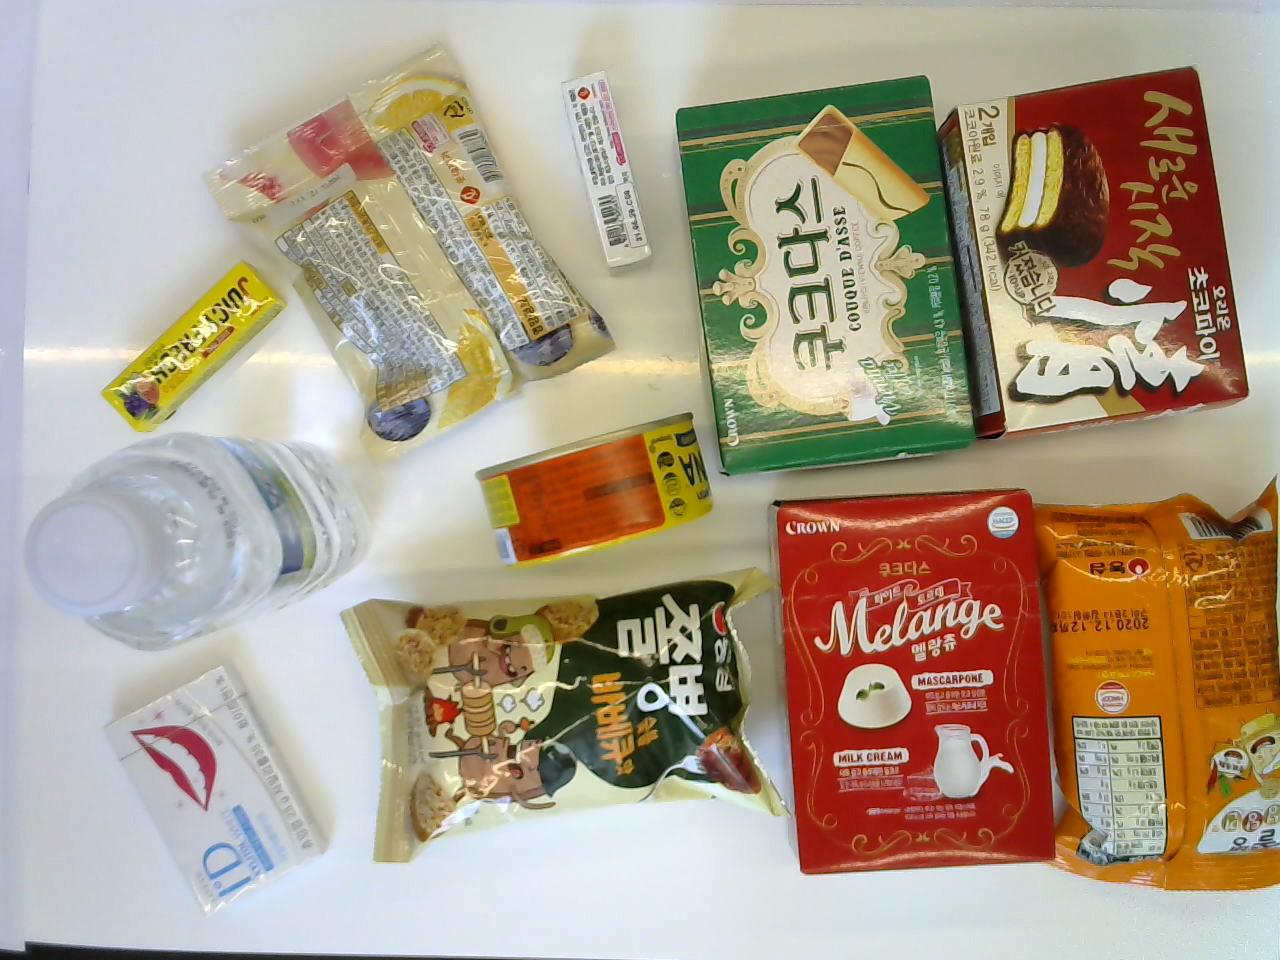ID_gum: (103, 664, 327, 918)
couque_coffee: (668, 72, 978, 483)
couque_white: (936, 66, 1248, 441), (767, 480, 1059, 878)
gumi_gumi: (200, 42, 615, 463)
jjolbyung_noodle: (1028, 474, 1280, 891)
jjolbyung_ori: (340, 563, 789, 866)
juicyfresh: (97, 258, 285, 433)
samdasu: (24, 430, 372, 651)
spearmint: (559, 67, 655, 276)
tuna: (470, 411, 713, 566)
